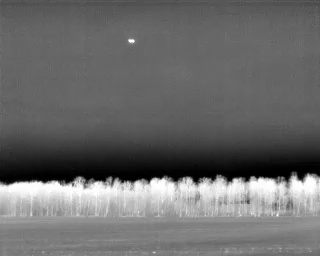DRONE: (125, 35, 138, 48)
